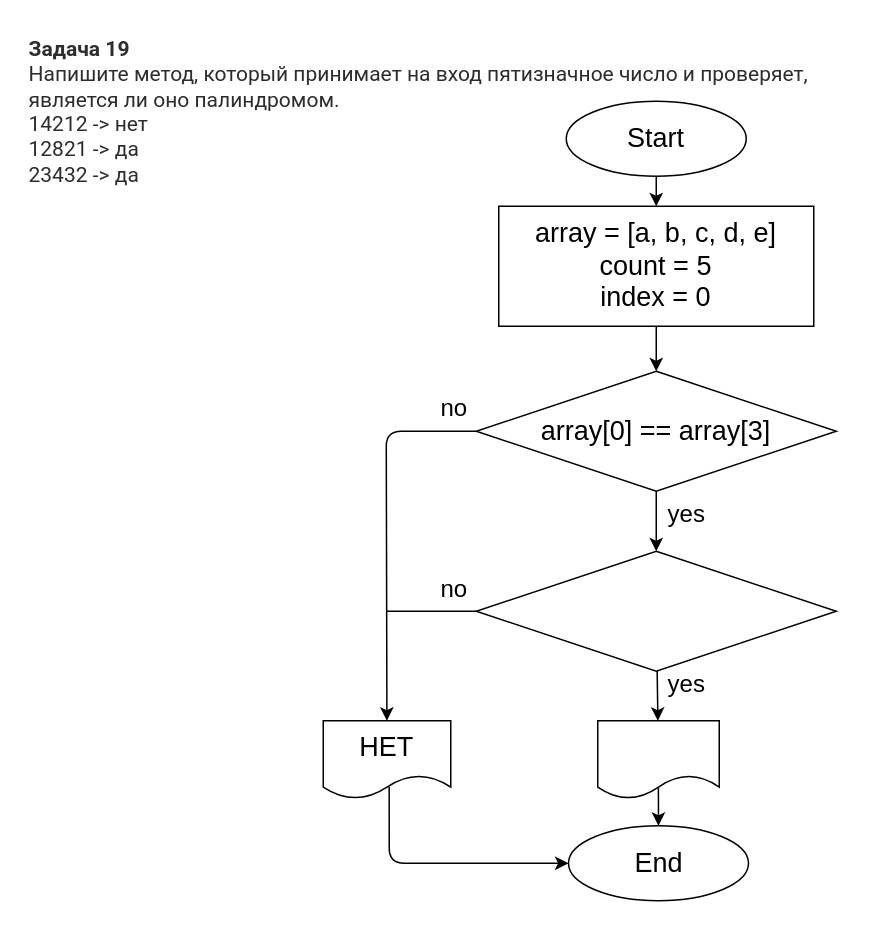
The diagram is 876 pixels wide and 927 high, and some of its shapes have lost their labels. The centre of each missing label's shape, as x and y in pixels:
"array[1] == array[4]" belongs at point 655,610.
"ДА" belongs at point 657,759.
